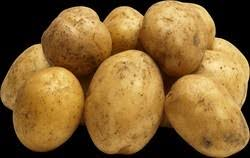potato: (90, 51, 165, 148), (159, 77, 249, 154), (15, 64, 80, 153), (142, 0, 216, 67), (45, 8, 115, 69)
